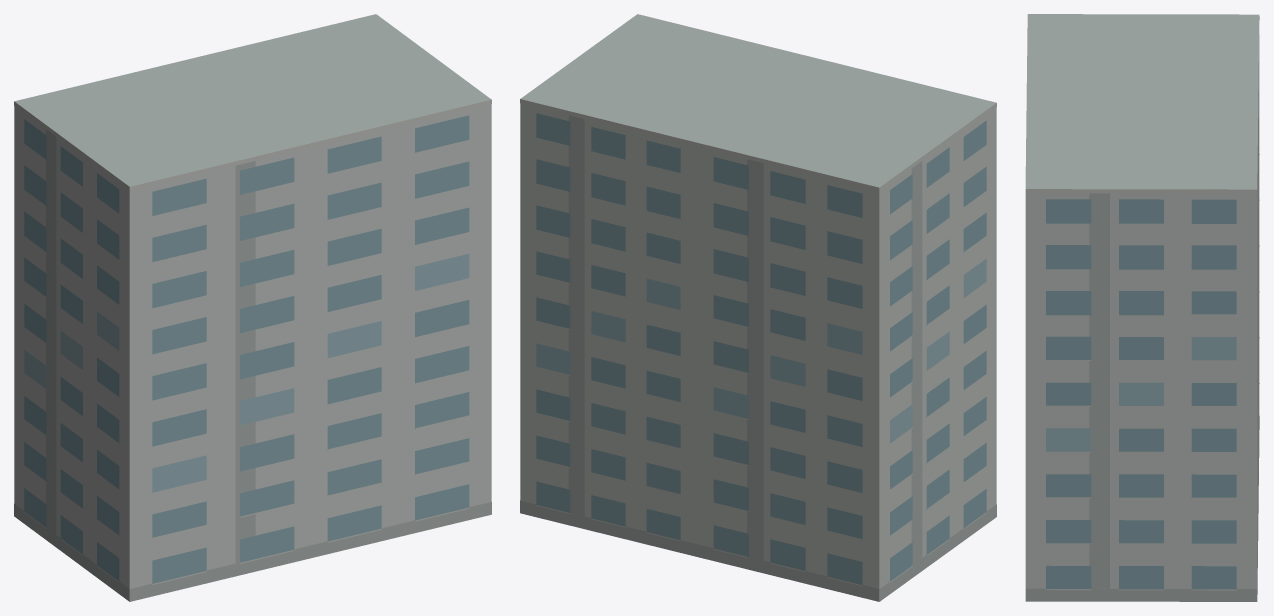
File: residential-3b0b3478-9b0f-48b0-8f5d-c423c1837273.glb
3 views of the same model, side by side, from view 1: azimuth 30°, elevation 25°; view 2: azimuth 150°, elevation 25°; view 3: azimuth 270°, elevation 25° (orthographic).
Parts seen in each view (by area): view 1: residential-3b0b3478-9b0f-48b0-8f5d-c423c1837273.tmp; view 2: residential-3b0b3478-9b0f-48b0-8f5d-c423c1837273.tmp; view 3: residential-3b0b3478-9b0f-48b0-8f5d-c423c1837273.tmp.
Boxes of the visible parts, x1=… form: residential-3b0b3478-9b0f-48b0-8f5d-c423c1837273.tmp: x1=14, y1=14, x2=491, y2=601; residential-3b0b3478-9b0f-48b0-8f5d-c423c1837273.tmp: x1=520, y1=14, x2=996, y2=601; residential-3b0b3478-9b0f-48b0-8f5d-c423c1837273.tmp: x1=1025, y1=14, x2=1259, y2=601.
Bounding box in the file's own units: 21.92 × 24 × 12.35.
